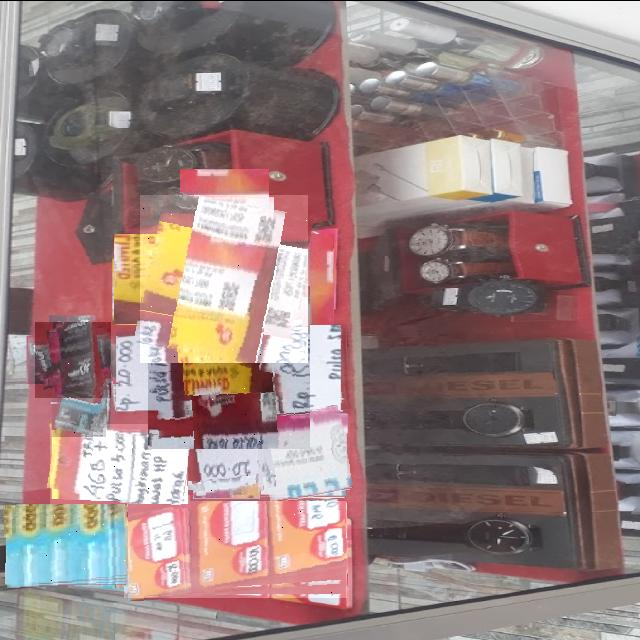Indosat-3: (140, 194, 308, 362), (50, 423, 190, 503), (258, 408, 350, 499), (188, 417, 266, 494), (35, 321, 111, 397), (52, 381, 106, 436)
SimpaTI: (148, 285, 310, 448)
im3: (124, 500, 347, 597), (5, 503, 128, 585)
